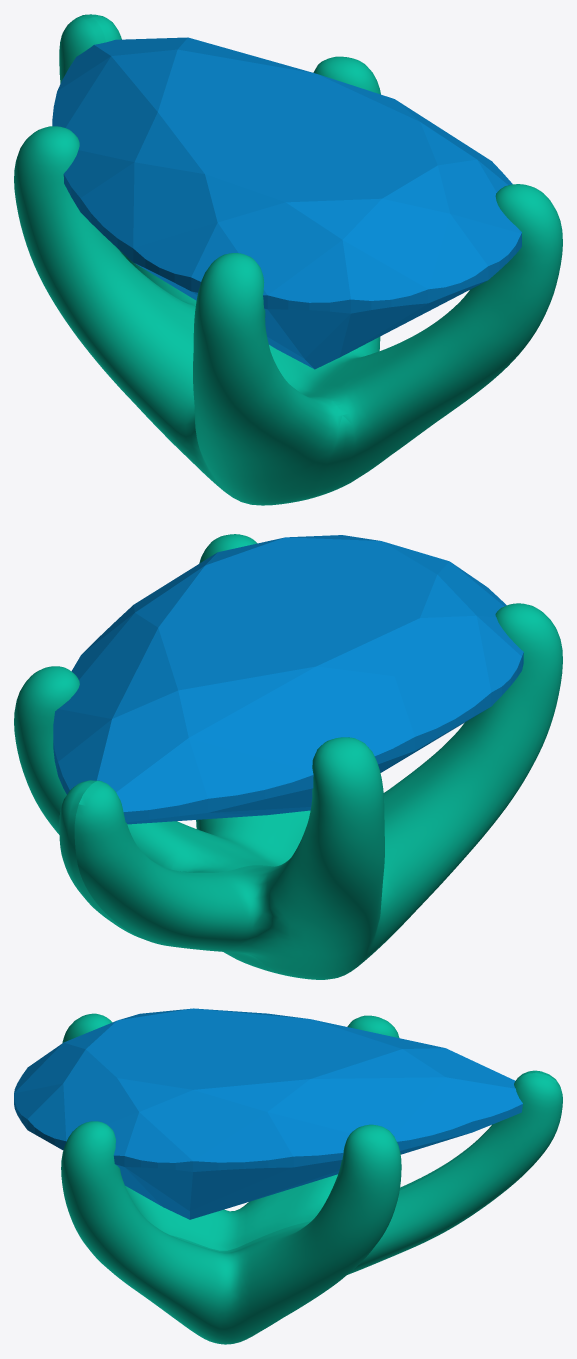
File: pear.glb
The picture shows the model from 3 angles, top to bottom: view 1: azimuth 30°, elevation 25°; view 2: azimuth 150°, elevation 25°; view 3: azimuth 270°, elevation 25°; orthographic projection. The views are drawn at different scales.
Parts seen in each view (by area): view 1: DIA-PEAHD-B1-1, MTL-HEAD-1 (×2); view 2: DIA-PEAHD-B1-1, MTL-HEAD-1 (×2); view 3: DIA-PEAHD-B1-1, MTL-HEAD-1 (×2).
Part boxes in pixels (x1=…): DIA-PEAHD-B1-1: x1=52, y1=37, x2=521, y2=369; MTL-HEAD-1 (×2): x1=14, y1=14, x2=562, y2=505; DIA-PEAHD-B1-1: x1=53, y1=535, x2=523, y2=824; MTL-HEAD-1 (×2): x1=14, y1=534, x2=562, y2=979; DIA-PEAHD-B1-1: x1=14, y1=1008, x2=522, y2=1219; MTL-HEAD-1 (×2): x1=61, y1=1013, x2=562, y2=1344.
Size of the model in its own units: 6.76 by 6.49 by 11.55.
